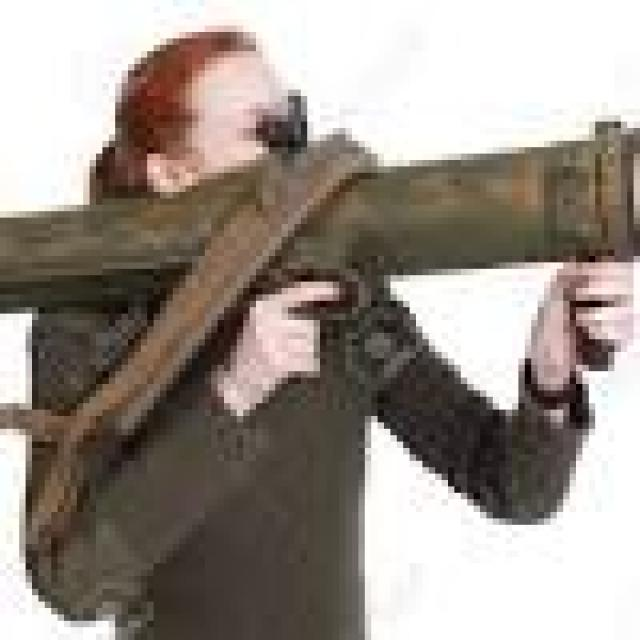Gun: (0, 112, 640, 303)
